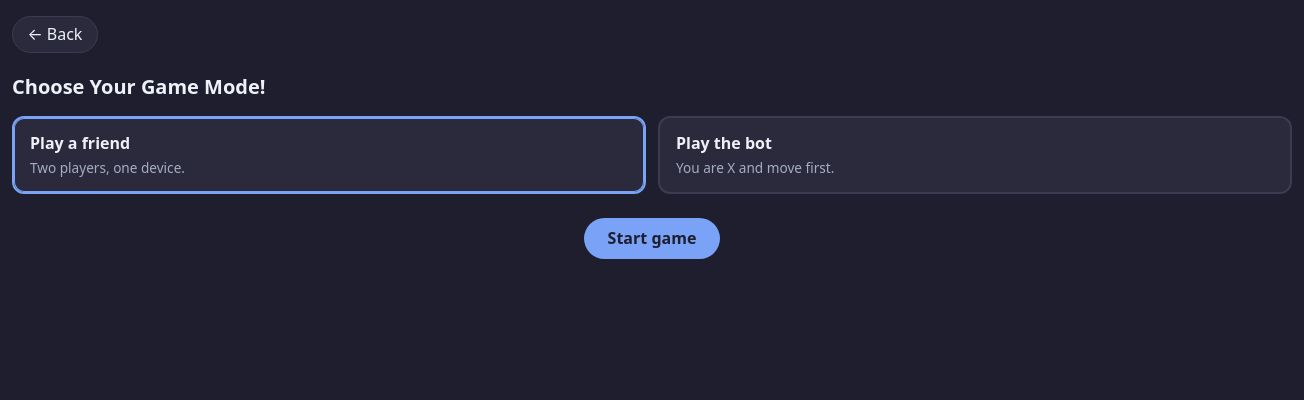
Test: TicTacToe setup › shows difficulty options only for the bot
This screenshot has width=1304, height=400.
Check: the button "beginner" is not shown
Click the button "Play the bot You are X and move first.". click: click(724, 143)
box: 658,116 -> 1292,194
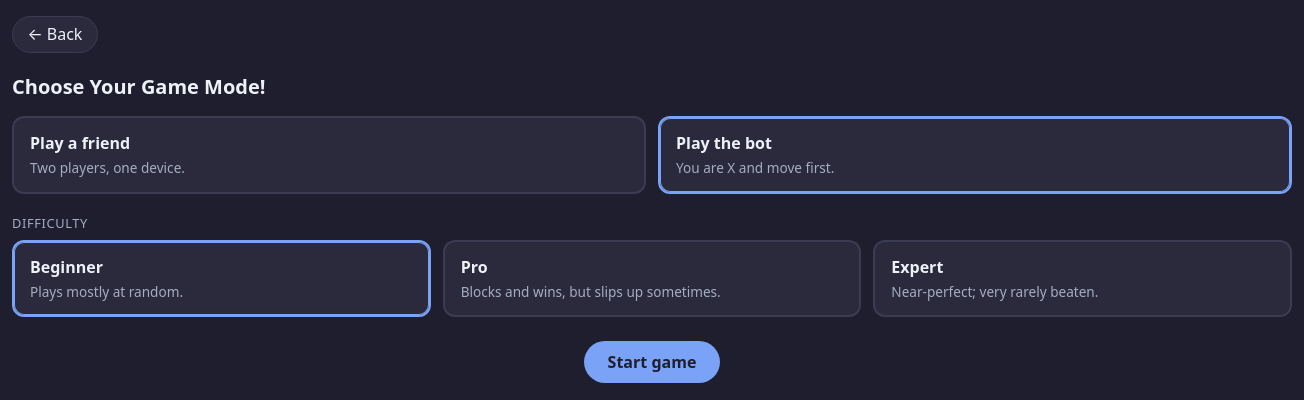
Check: the button "Beginner Plays mostly at random." is shown, box 12,240 -> 431,317
Check: the button "Pro Blocks and wins, but slips up sometimes." is shown, box 443,240 -> 861,317
Check: the button "Expert Near-perfect; very rarely beaten." is shown, box 873,240 -> 1292,317
